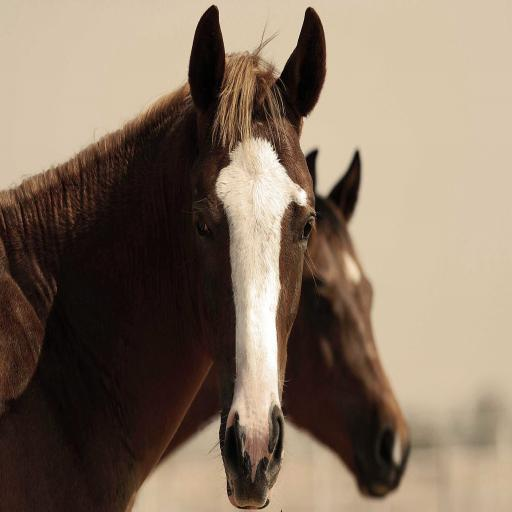Horse: (0, 5, 327, 510), (156, 143, 414, 500)
